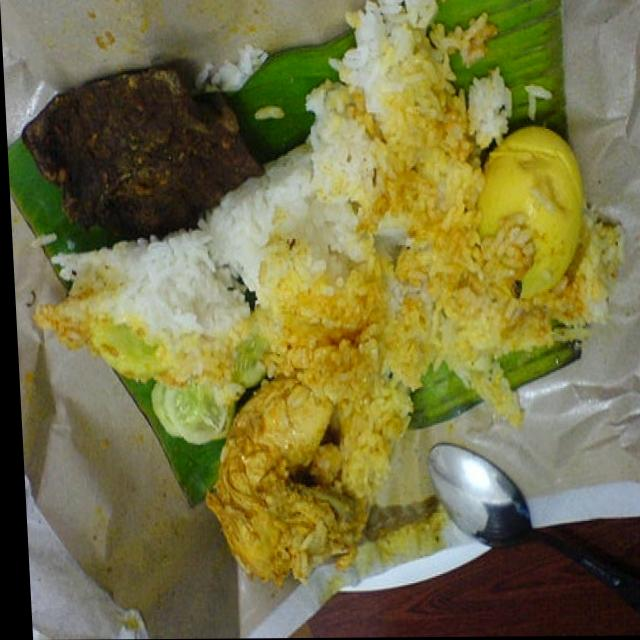米饭主食: (10, 7, 636, 631)
